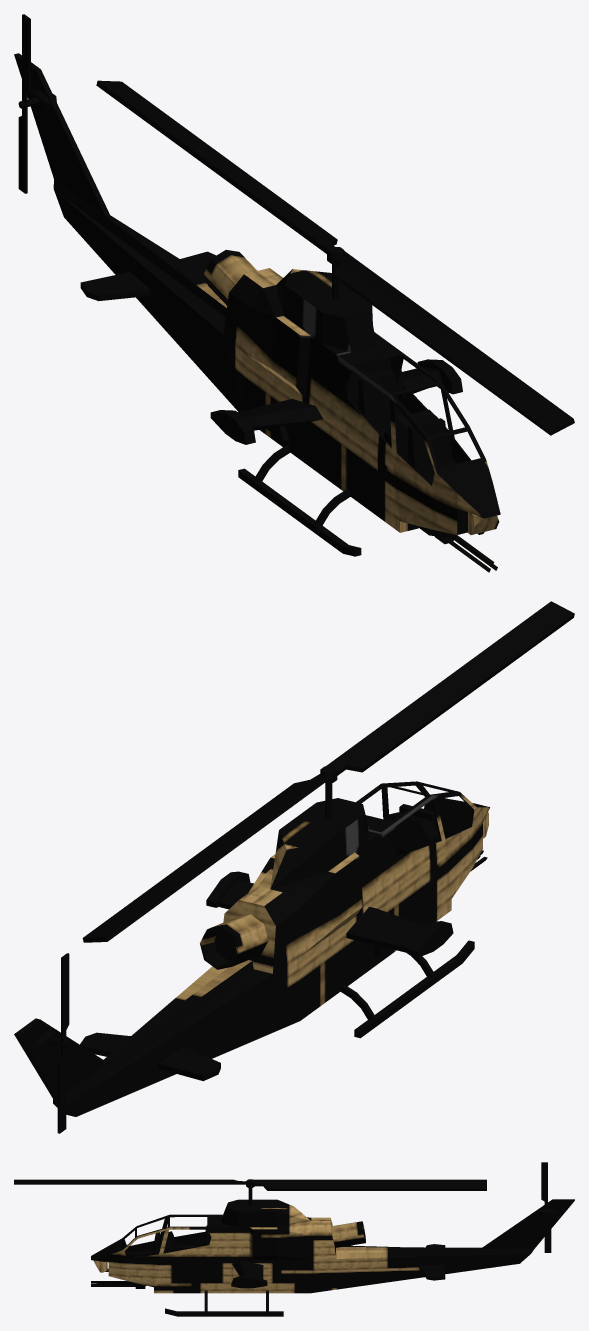
Rendered from krait_chopper.obj.
The picture shows the model from 3 angles, top to bottom: view 1: azimuth 30°, elevation 25°; view 2: azimuth 150°, elevation 25°; view 3: azimuth 270°, elevation 25°; orthographic projection. The views are drawn at different scales.
Visible parts, largest first — view 1: body, blade0, seat, frame_out, wing4, wing1, frame_in, blade1, engine, wing3, wing0; view 2: body, blade0, wing4, wing1, frame_out, engine, seat, blade1, wing3, wing0, frame_in, wing2; view 3: body, blade0, wing4, frame_out, seat, wing0, engine, frame_in, blade1, wing2, turret1.
Boxes of the visible parts, left/top/right/bottom form: body: left=53, top=179, right=500, bottom=556; blade0: left=96, top=80, right=574, bottom=435; seat: left=348, top=358, right=462, bottom=484; frame_out: left=337, top=343, right=486, bottom=496; wing4: left=14, top=53, right=110, bottom=216; wing1: left=210, top=398, right=322, bottom=444; frame_in: left=347, top=354, right=481, bottom=485; blade1: left=18, top=14, right=39, bottom=193; engine: left=204, top=250, right=257, bottom=305; wing3: left=80, top=272, right=151, bottom=301; wing0: left=402, top=359, right=462, bottom=394; body: left=53, top=798, right=489, bottom=1116; blade0: left=82, top=601, right=574, bottom=942; wing4: left=14, top=1018, right=107, bottom=1099; wing1: left=346, top=907, right=453, bottom=957; frame_out: left=356, top=781, right=476, bottom=874; engine: left=200, top=914, right=268, bottom=969; seat: left=384, top=799, right=472, bottom=856; blade1: left=49, top=953, right=69, bottom=1133; wing3: left=158, top=1046, right=220, bottom=1081; wing0: left=206, top=871, right=253, bottom=909; frame_in: left=359, top=782, right=474, bottom=856; wing2: left=80, top=1032, right=130, bottom=1056; body: left=91, top=1199, right=533, bottom=1316; blade0: left=14, top=1179, right=486, bottom=1206; wing4: left=482, top=1199, right=574, bottom=1248; frame_out: left=122, top=1214, right=221, bottom=1263; seat: left=124, top=1225, right=211, bottom=1258; wing0: left=231, top=1260, right=267, bottom=1288; engine: left=331, top=1221, right=365, bottom=1247; frame_in: left=124, top=1215, right=210, bottom=1258; blade1: left=541, top=1162, right=551, bottom=1252; wing2: left=419, top=1264, right=445, bottom=1280; turret1: left=91, top=1281, right=145, bottom=1288.
Bounding box in the file's own units: 4.15 × 4.77 × 18.27.
